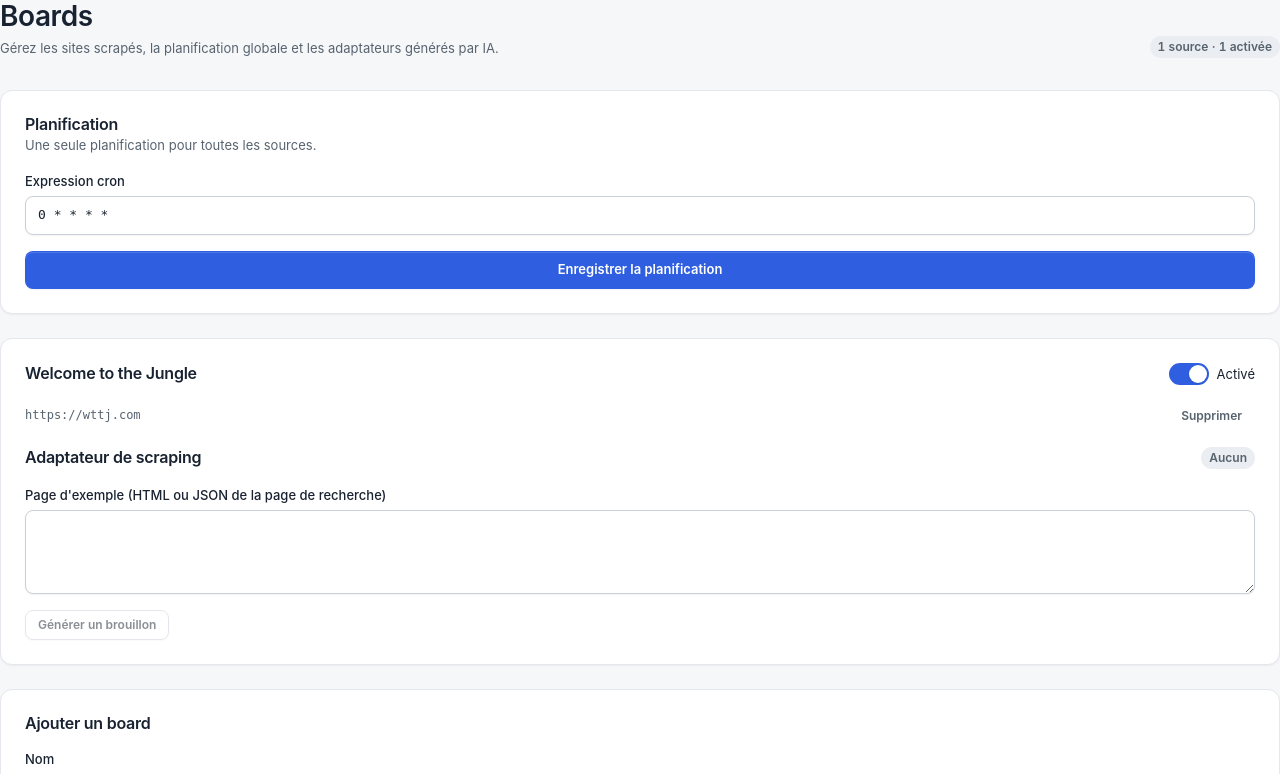
BoardsPage › generates and approves an adapter draft
Check: the heading "Welcome to the Jungle" is shown, box [25,364,197,384]
Type "<html>example</html>" into the text box labelled "Page d'exemple (HTML ou JSON de la page de recherche)" at x=640, y=552, box [25,510,1255,594]
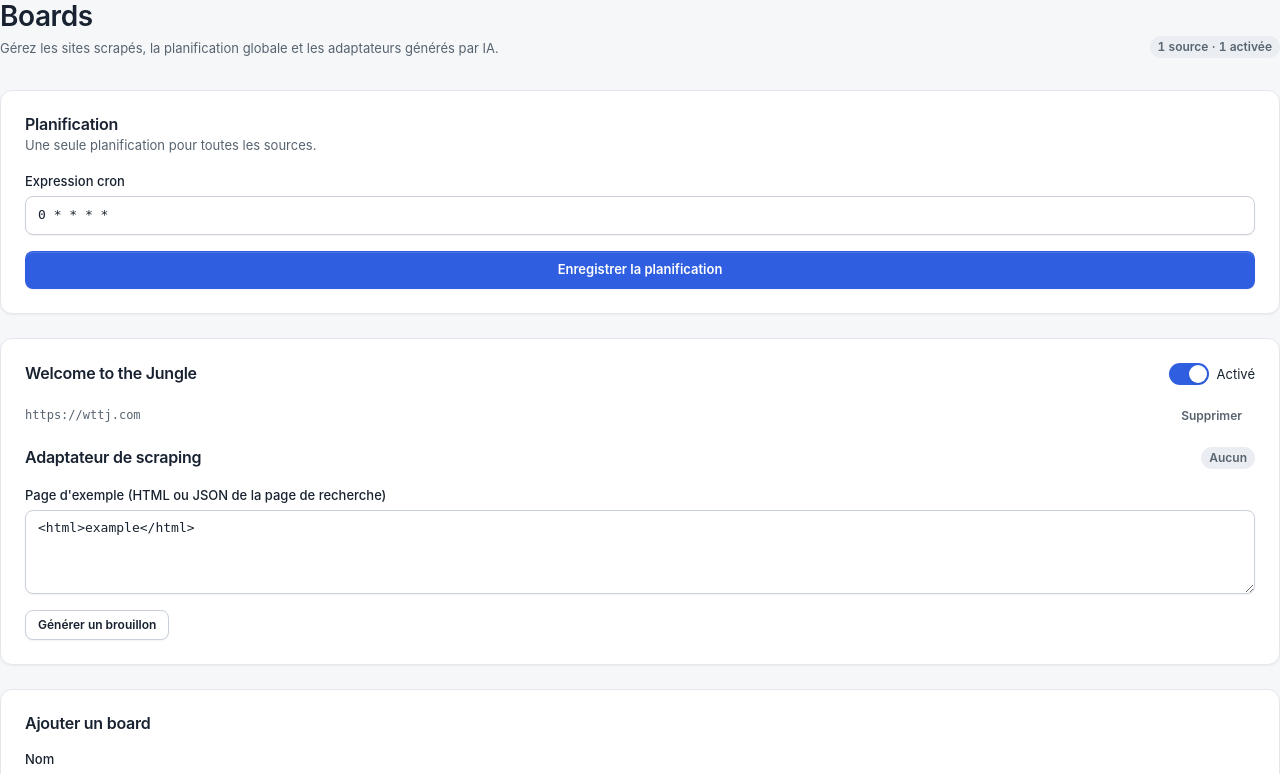
Click the button "Générer un brouillon" at x=97, y=625, box [25,610,169,640]
(page scrolled)
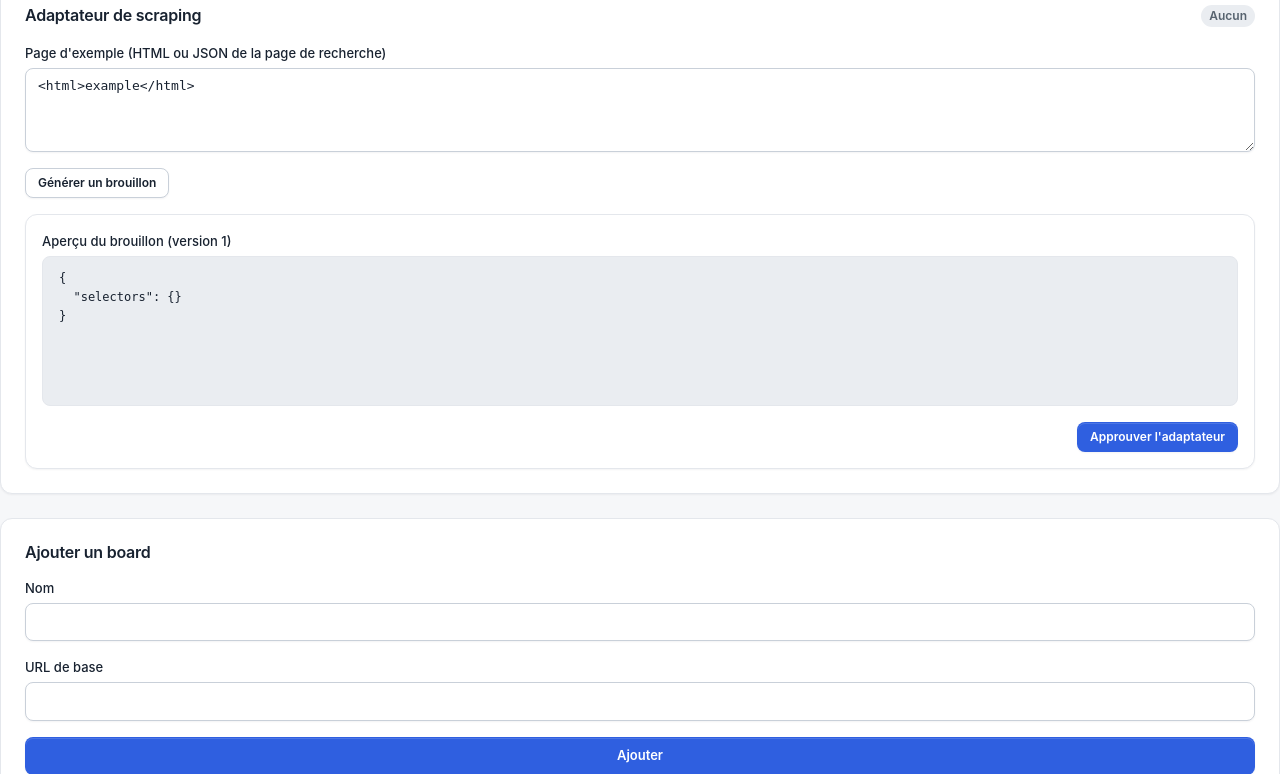
Check: the text "Aperçu du brouillon (version 1)" is shown, box [42,233,232,249]
Click the button "Approuver l'adaptateur" at x=1158, y=437, box [1077,422,1238,452]
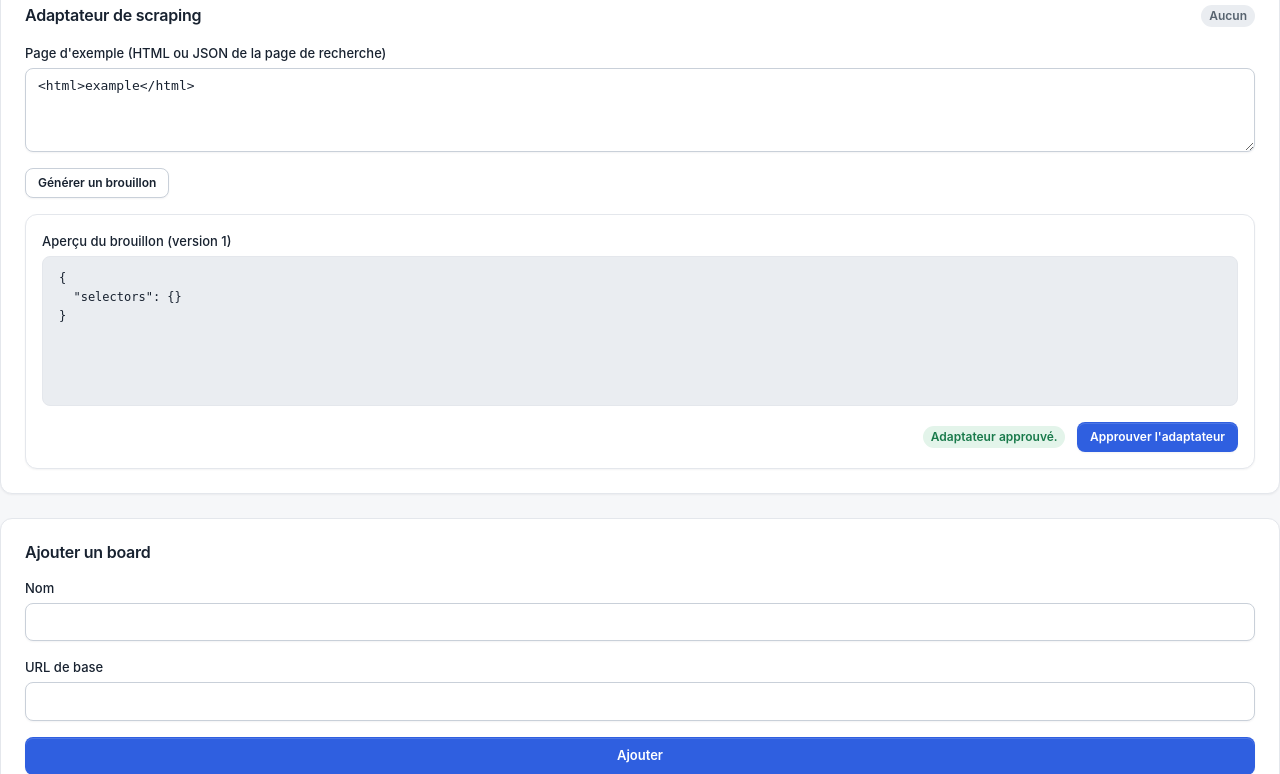
Check: the text "Adaptateur approuvé." is shown, box [923,426,1065,448]
